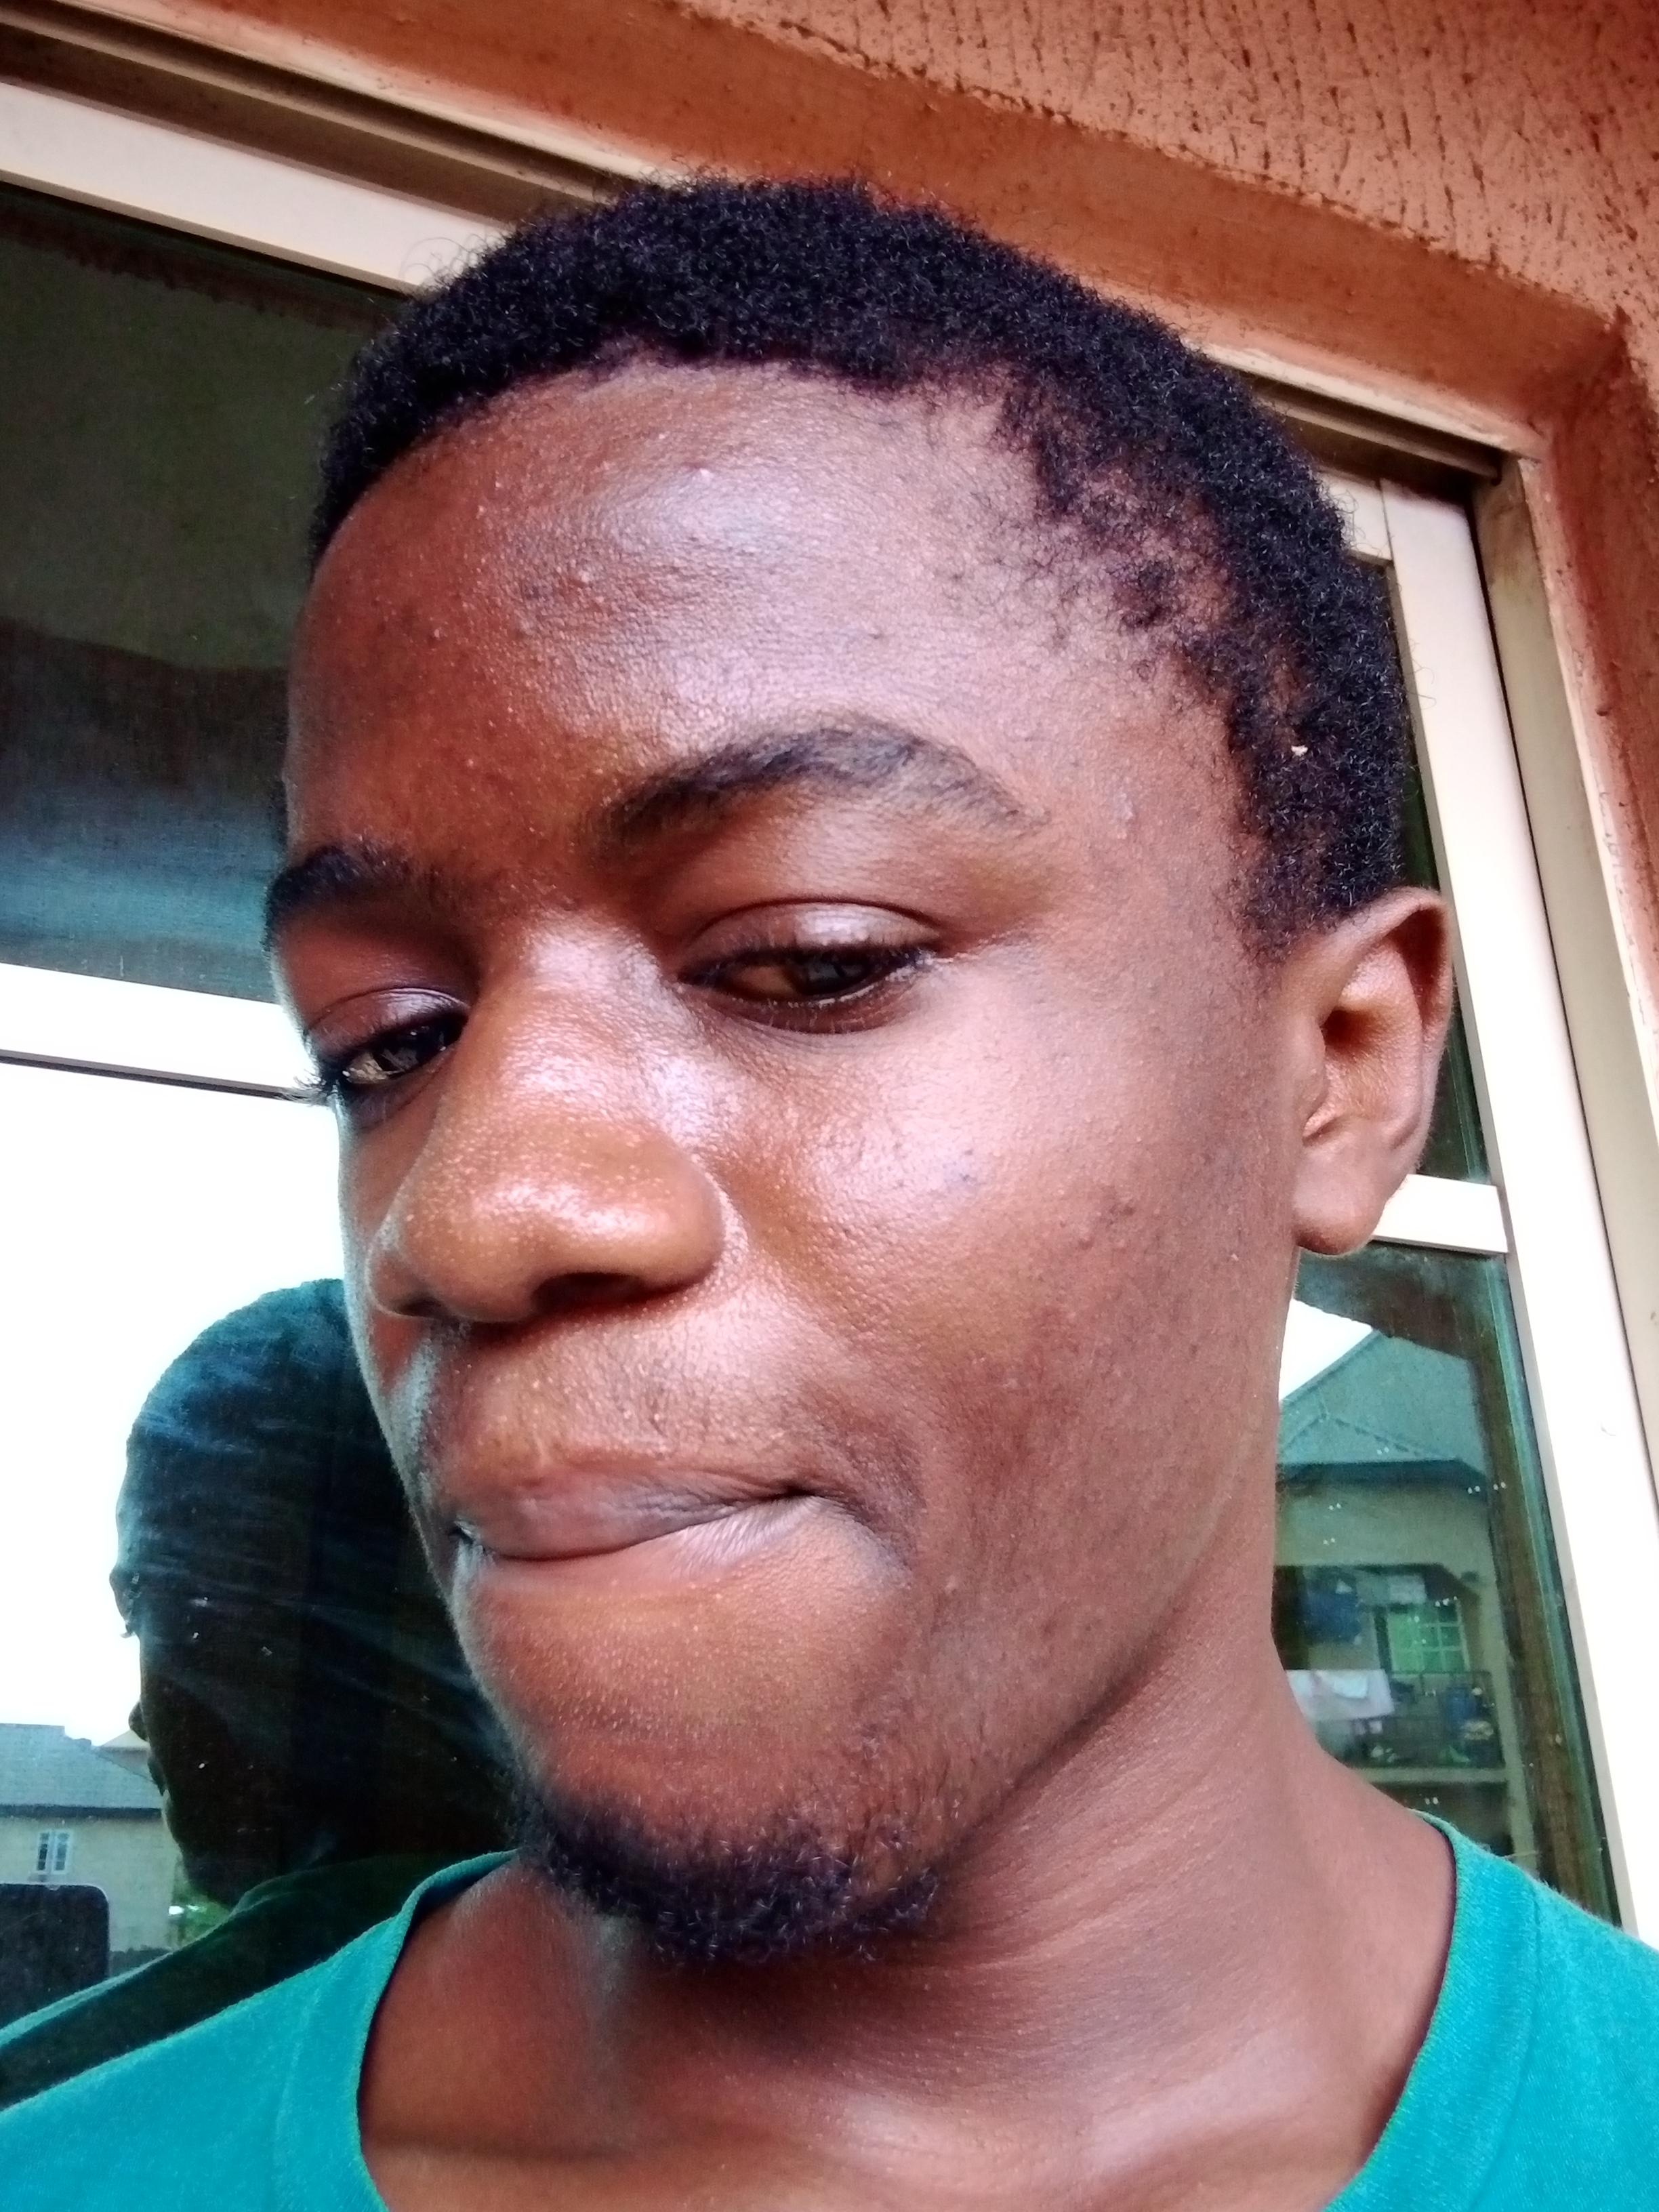Acne: (786, 1118, 892, 1155), (720, 1082, 763, 1139), (448, 554, 490, 613), (681, 528, 758, 556), (371, 573, 403, 634), (1105, 789, 1138, 845), (479, 704, 519, 738), (525, 575, 565, 604), (742, 437, 772, 472), (587, 590, 622, 620), (1211, 1245, 1239, 1282), (1068, 1226, 1096, 1259), (591, 448, 620, 477), (570, 563, 598, 594), (579, 759, 612, 786), (512, 611, 537, 644), (938, 1578, 962, 1609), (1190, 1144, 1211, 1179), (455, 752, 479, 782), (911, 559, 941, 583), (523, 651, 563, 669), (1112, 1191, 1138, 1217), (857, 620, 882, 648), (542, 611, 573, 632), (864, 538, 894, 559), (552, 556, 580, 577), (692, 458, 714, 482), (425, 622, 444, 648), (488, 470, 507, 495), (650, 425, 671, 446), (1060, 1310, 1079, 1331), (471, 500, 488, 523), (1115, 1231, 1129, 1252)
Englarged-Pores: (526, 557, 755, 639)
